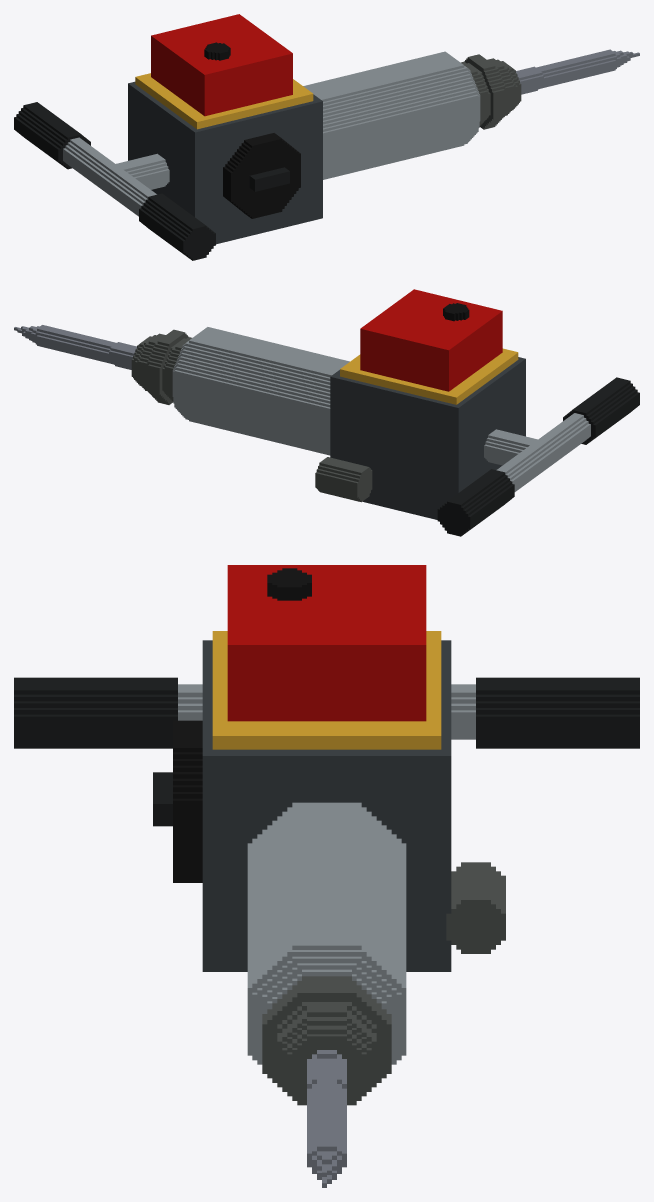
File: jackhammer.glb
3 views of the same model, one above another, from view 1: azimuth 30°, elevation 25°; view 2: azimuth 150°, elevation 25°; view 3: azimuth 270°, elevation 25° (orthographic). The views are drawn at different scales.
Visible parts, largest first — view 1: jackhammer:compound; view 2: jackhammer:compound; view 3: jackhammer:compound.
Part boxes in pixels (x1,y1,x2,y2): jackhammer:compound: [14, 14, 639, 260]; jackhammer:compound: [14, 289, 639, 536]; jackhammer:compound: [14, 565, 639, 1187].
Bounding box in the file's own units: 0.928 × 0.284 × 0.504.
